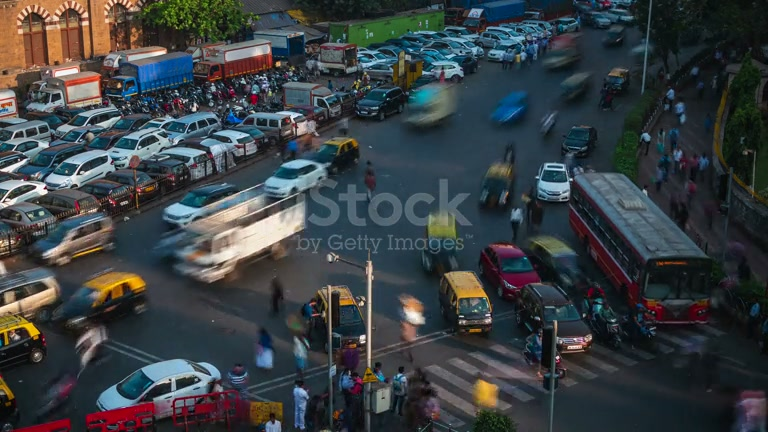bus: (566, 168, 716, 325), (102, 48, 194, 110), (191, 40, 273, 84)
car: (91, 358, 223, 427), (52, 269, 150, 329), (515, 282, 594, 352), (29, 210, 118, 267), (478, 242, 544, 301), (161, 181, 242, 228), (438, 270, 494, 335), (0, 266, 63, 322), (139, 144, 216, 186), (42, 149, 116, 191), (0, 313, 48, 373), (477, 142, 517, 211), (81, 169, 159, 204), (263, 158, 328, 199), (299, 136, 360, 176), (242, 111, 316, 142), (78, 177, 134, 216), (0, 203, 55, 241), (354, 86, 408, 120), (531, 162, 572, 203), (209, 127, 260, 159), (489, 89, 529, 127), (0, 179, 50, 209), (560, 125, 598, 158), (0, 371, 20, 430)
pedestrian: (293, 379, 311, 431), (390, 366, 408, 417), (269, 273, 284, 316), (265, 413, 282, 432)
truck: (164, 187, 309, 286)
